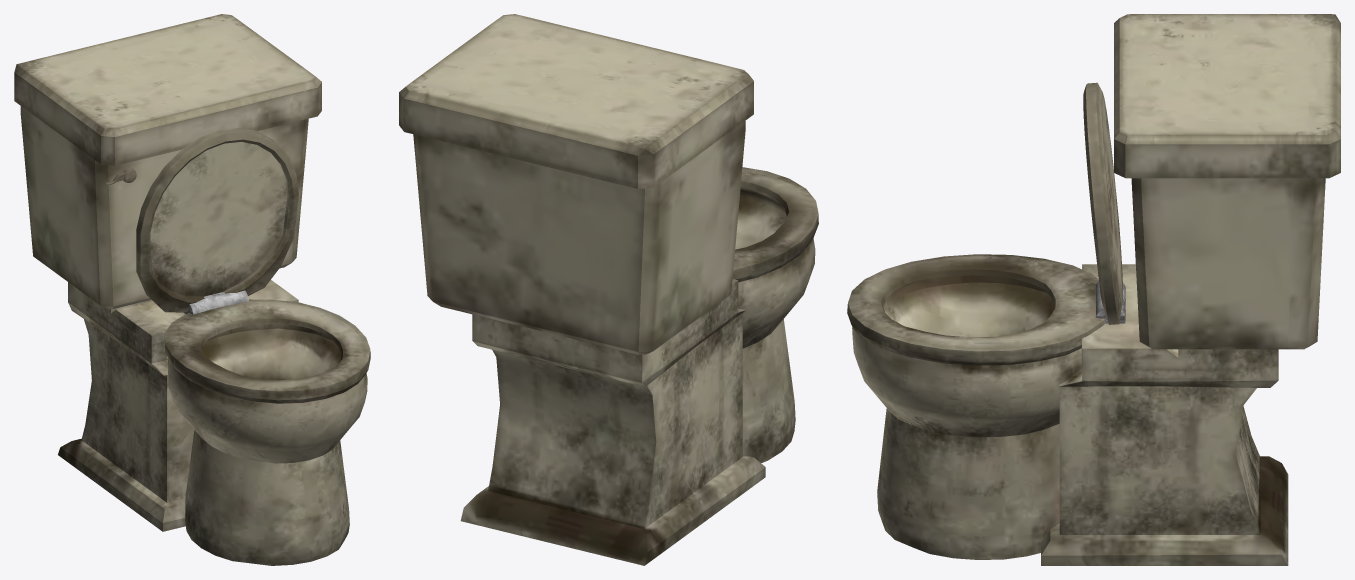
The model's file is s_inodoro.glb.
3 renders of one model, left to right at view 1: azimuth 30°, elevation 25°; view 2: azimuth 150°, elevation 25°; view 3: azimuth 270°, elevation 25°, orthographic. The views are drawn at different scales.
Parts seen in each view (by area): view 1: pCube21_lambert2_0; view 2: pCube21_lambert2_0; view 3: pCube21_lambert2_0.
Boxes of the visible parts, x1,y1,x2,y2 form: pCube21_lambert2_0: (14, 14, 370, 565); pCube21_lambert2_0: (399, 14, 818, 565); pCube21_lambert2_0: (847, 14, 1340, 565).
Size of the model in its own units: 0.4835 by 0.8 by 0.7954.
Materials: 2 (2 with a texture image).
